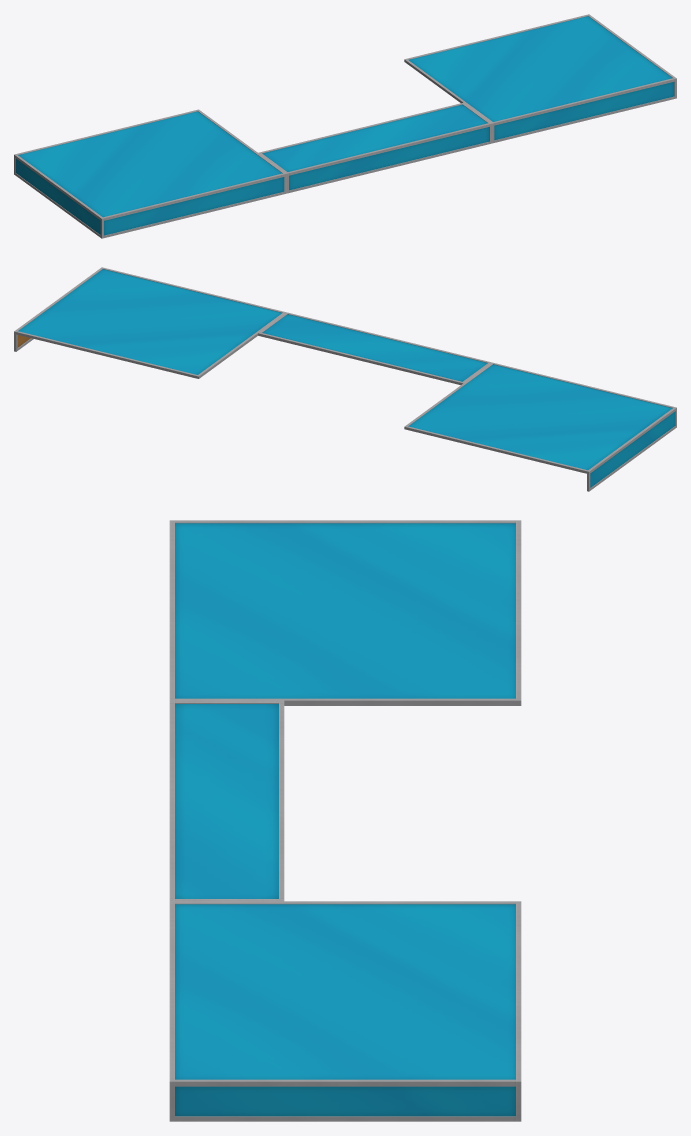
Rendered from jsf_2P_s04_c02_t02_DX.fbx.
The picture shows the model from 3 angles, top to bottom: view 1: azimuth 30°, elevation 25°; view 2: azimuth 150°, elevation 25°; view 3: azimuth 270°, elevation 25°; orthographic projection. The views are drawn at different scales.
Parts seen in each view (by area): view 1: jsf_2P_s04_c02_t02_DX; view 2: jsf_2P_s04_c02_t02_DX; view 3: jsf_2P_s04_c02_t02_DX.
Boxes of the visible parts, left/top/right/bottom form: jsf_2P_s04_c02_t02_DX: left=14, top=14, right=676, bottom=238; jsf_2P_s04_c02_t02_DX: left=14, top=267, right=676, bottom=491; jsf_2P_s04_c02_t02_DX: left=169, top=520, right=521, bottom=1121.
Bounding box in the file's own units: 378 × 12.51 × 100.
